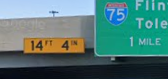1: (28, 38, 37, 53)
4: (58, 38, 70, 52), (34, 38, 44, 52)
overheadsign: (23, 37, 84, 54)
